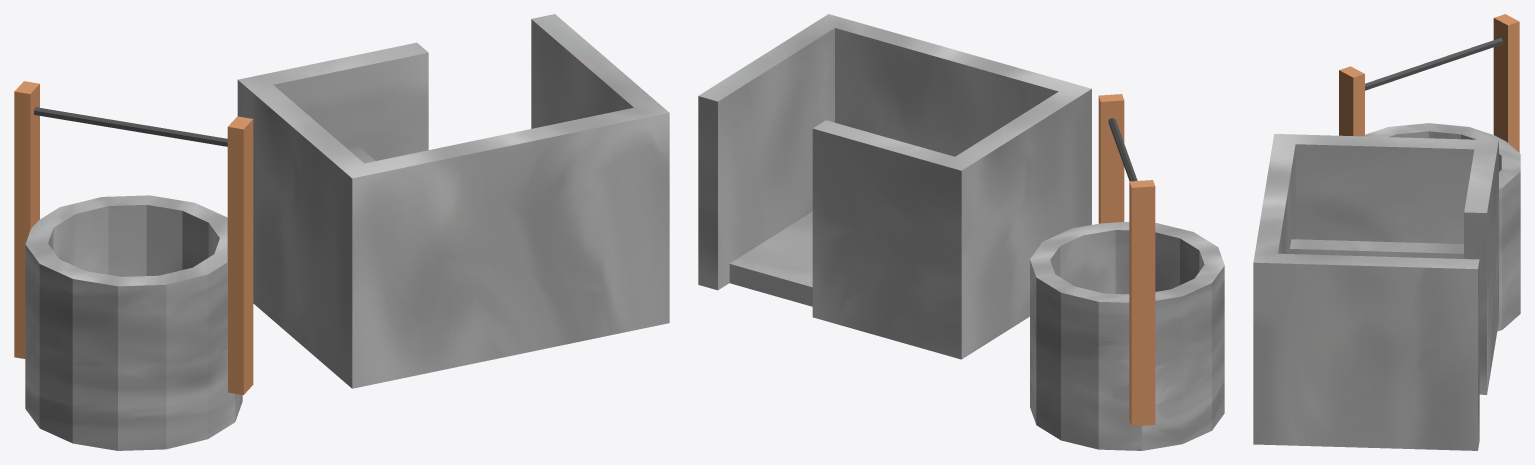
File: Kamar Mandi.fbx
The picture shows the model from 3 angles, left to right: view 1: azimuth 30°, elevation 25°; view 2: azimuth 150°, elevation 25°; view 3: azimuth 270°, elevation 25°; orthographic projection. The views are drawn at different scales.
Visible parts, largest first — view 1: Cube.041; view 2: Cube.041; view 3: Cube.041.
Part boxes in pixels (bbox=[...]): Cube.041: bbox=[14, 14, 669, 450]; Cube.041: bbox=[698, 14, 1224, 450]; Cube.041: bbox=[1253, 14, 1520, 450].
Bounding box in the file's own units: 536 × 282 × 264.
